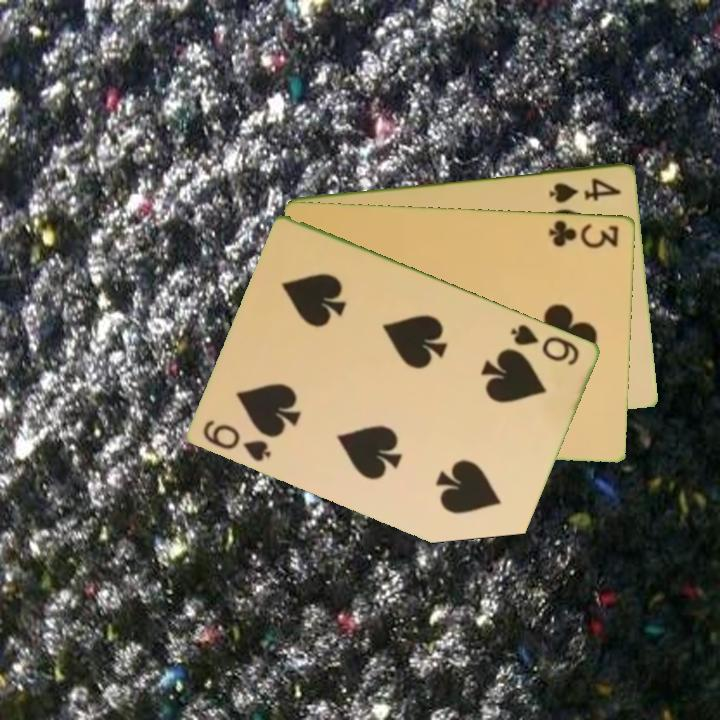3c: (546, 216, 622, 251)
4s: (546, 174, 624, 206)
6s: (507, 320, 583, 369), (200, 416, 275, 465)
